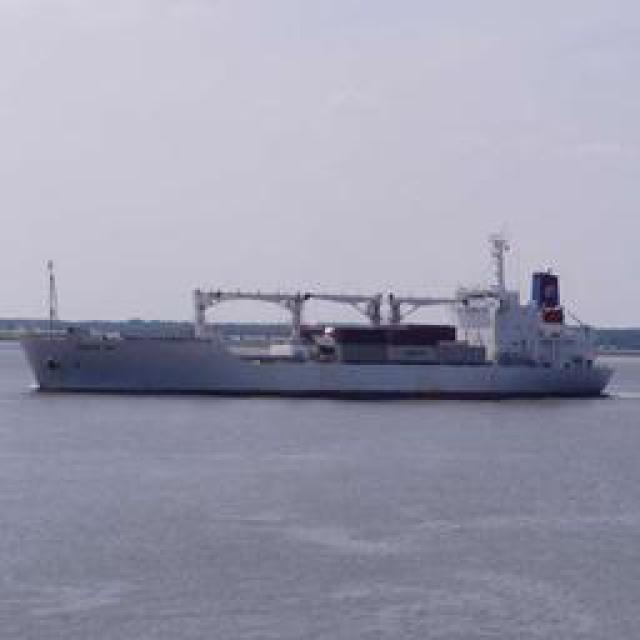Ship: (46, 273, 614, 401)
